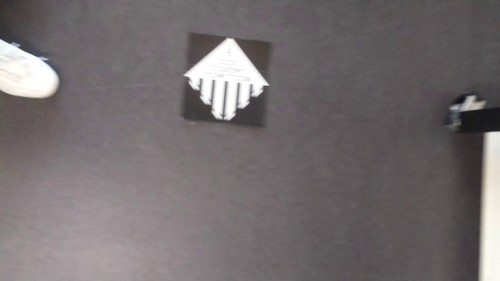misgoods: (183, 31, 276, 126)
